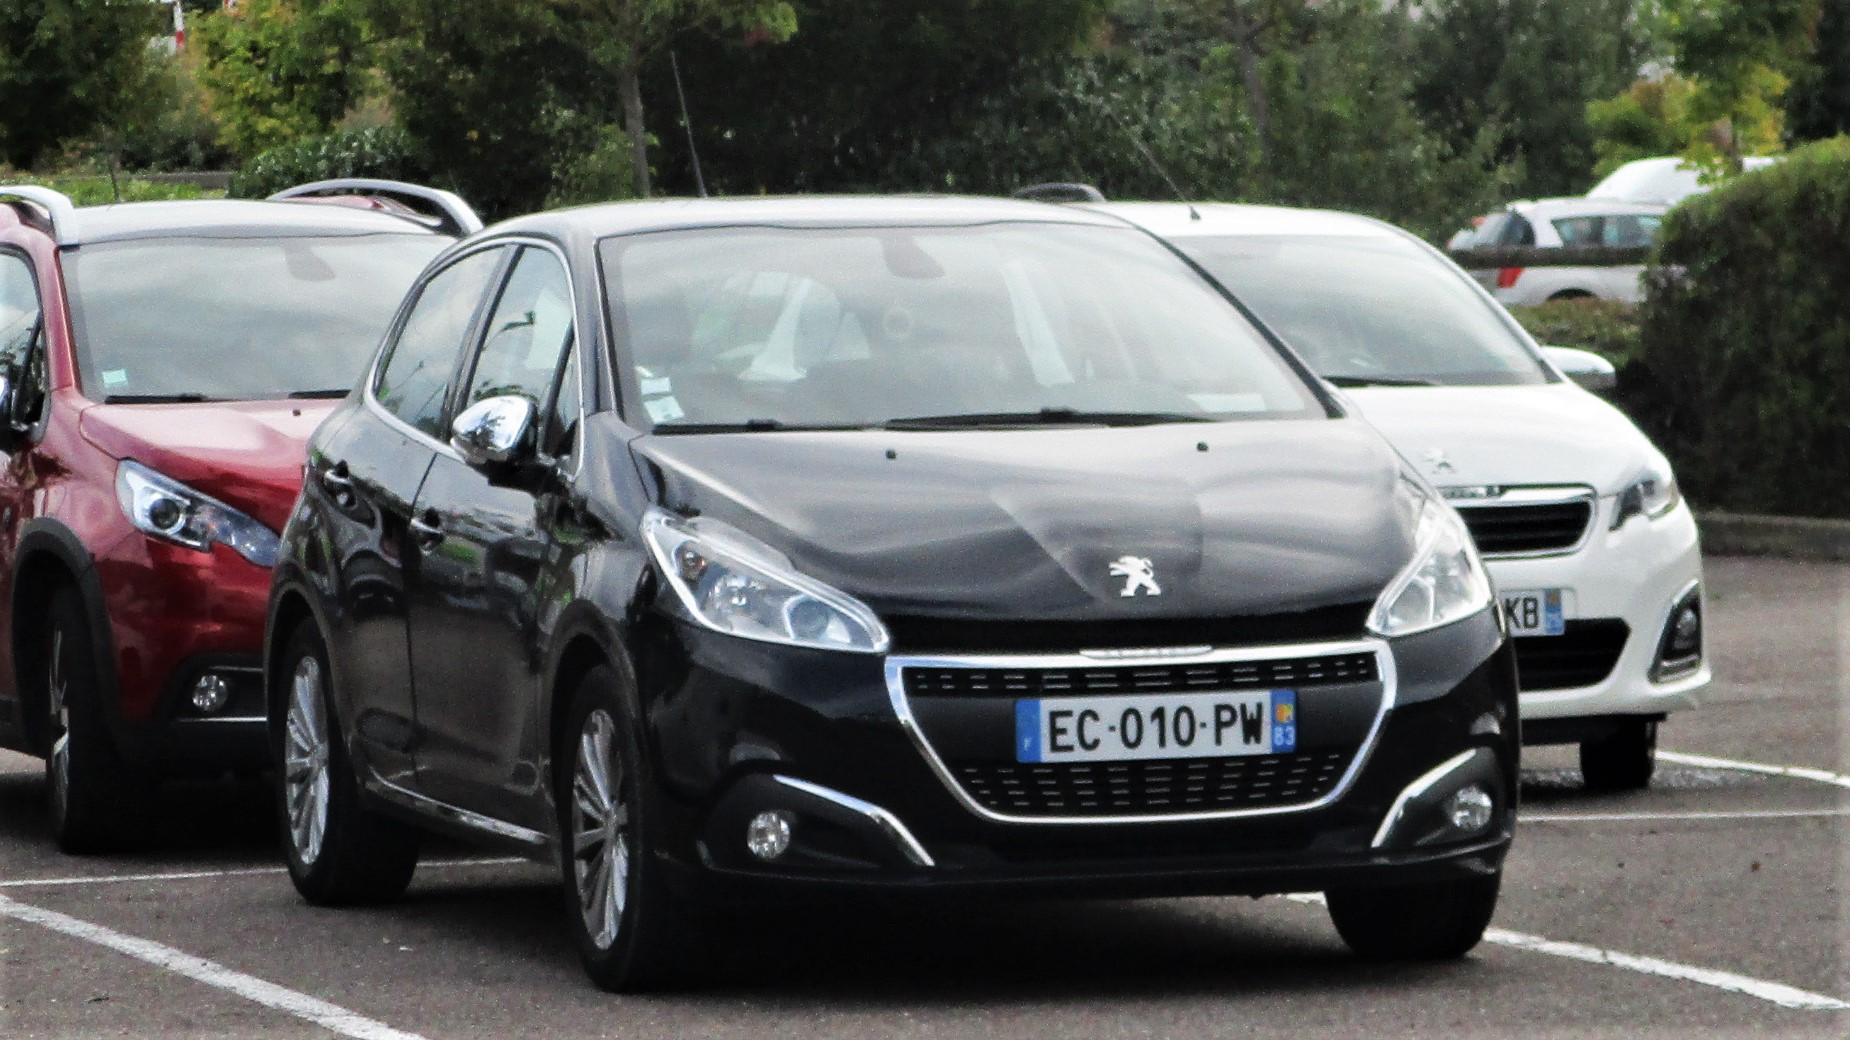licence plate: (1009, 684, 1304, 765)
